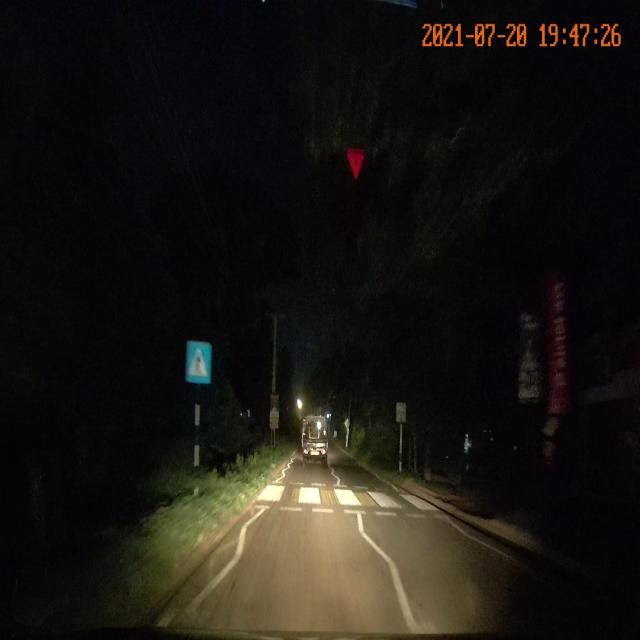Crosswalk: (251, 479, 455, 519)
